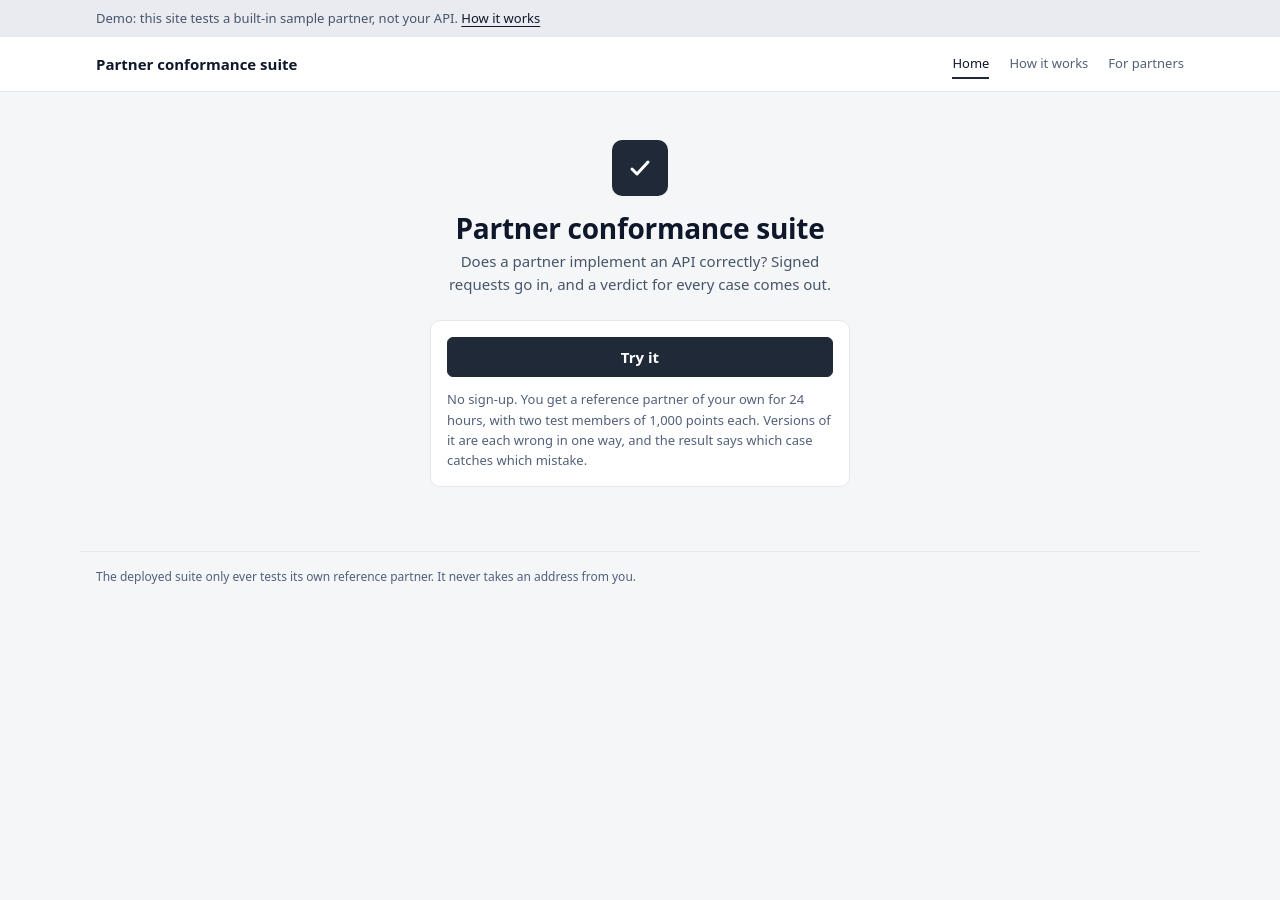
the page as a whole › goes on from the connection to the Run page, which loads the cases
This screenshot has width=1280, height=900.
Click the button "Try it": {"x": 640, "y": 357} [447, 337, 833, 377]
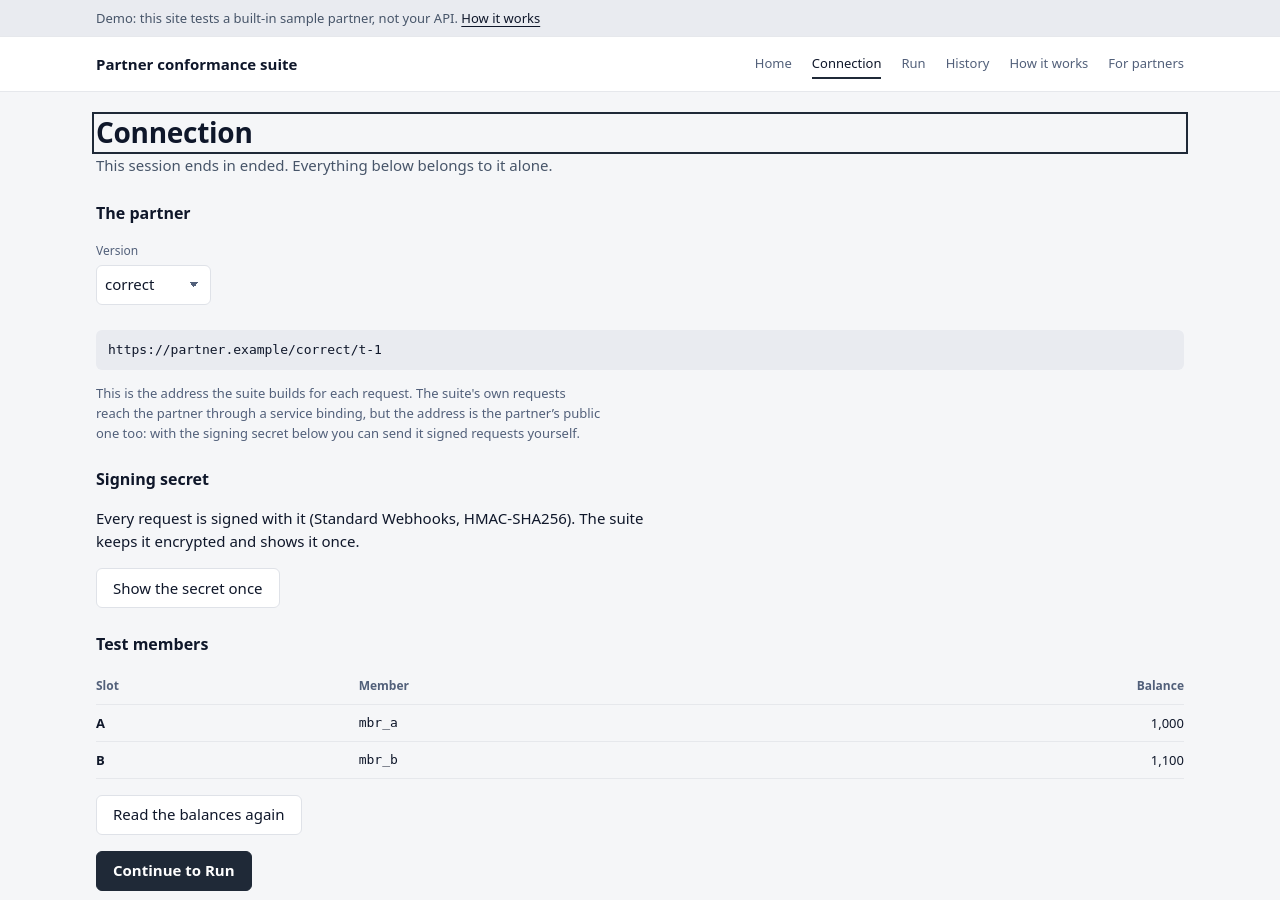
Click the button "Continue to Run": {"x": 174, "y": 871} [96, 851, 252, 891]
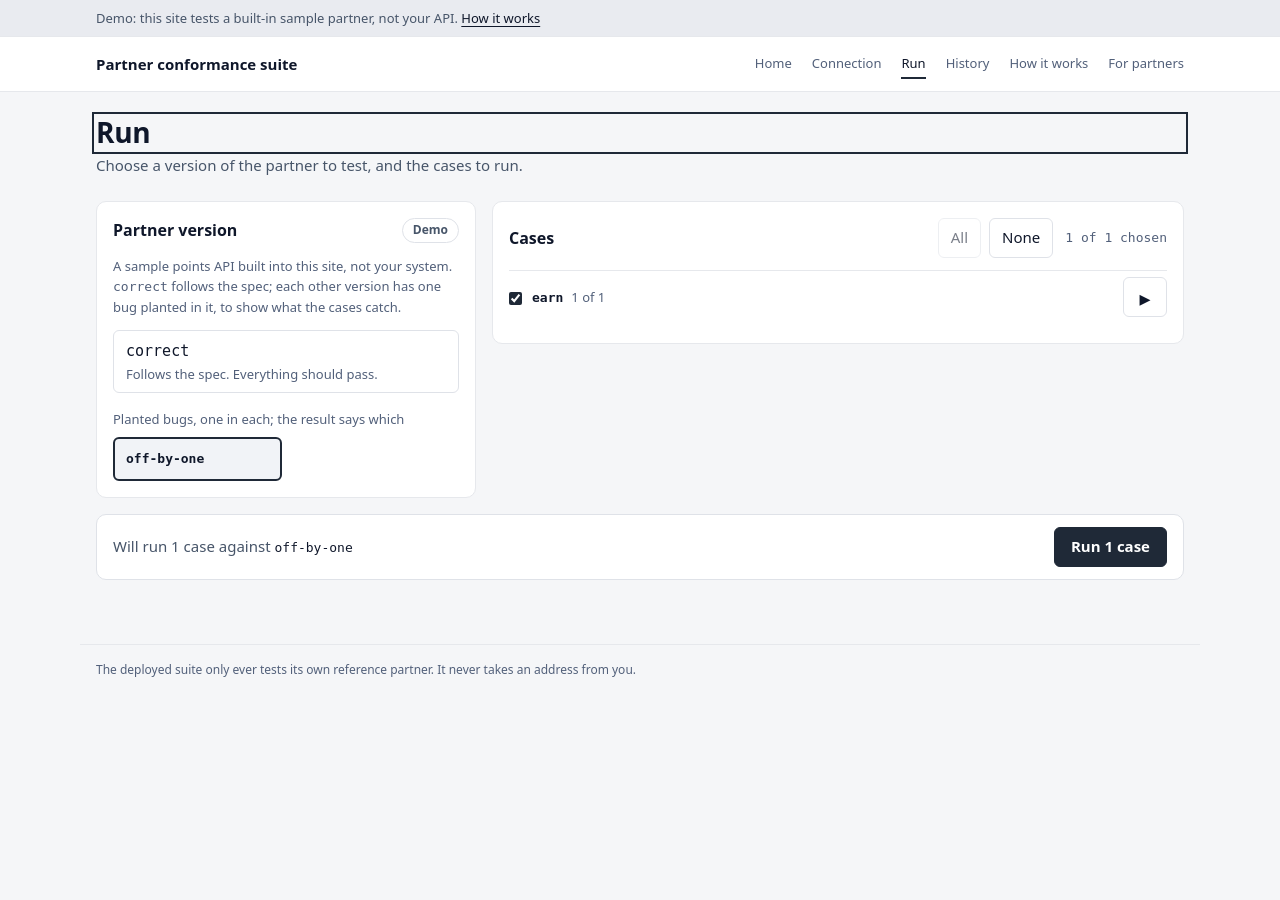
expect the heading "Run" is shown: met, box [96, 113, 150, 151]
expect the button "Run 1 case" is shown: met, box [1054, 527, 1167, 567]
